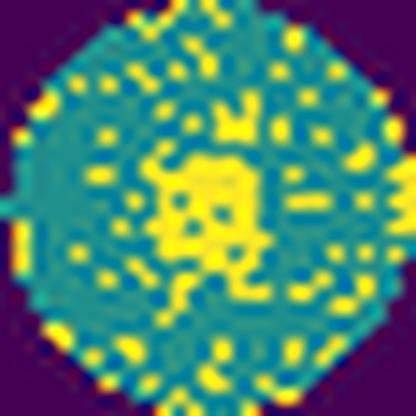Center: (136, 147, 278, 307)
